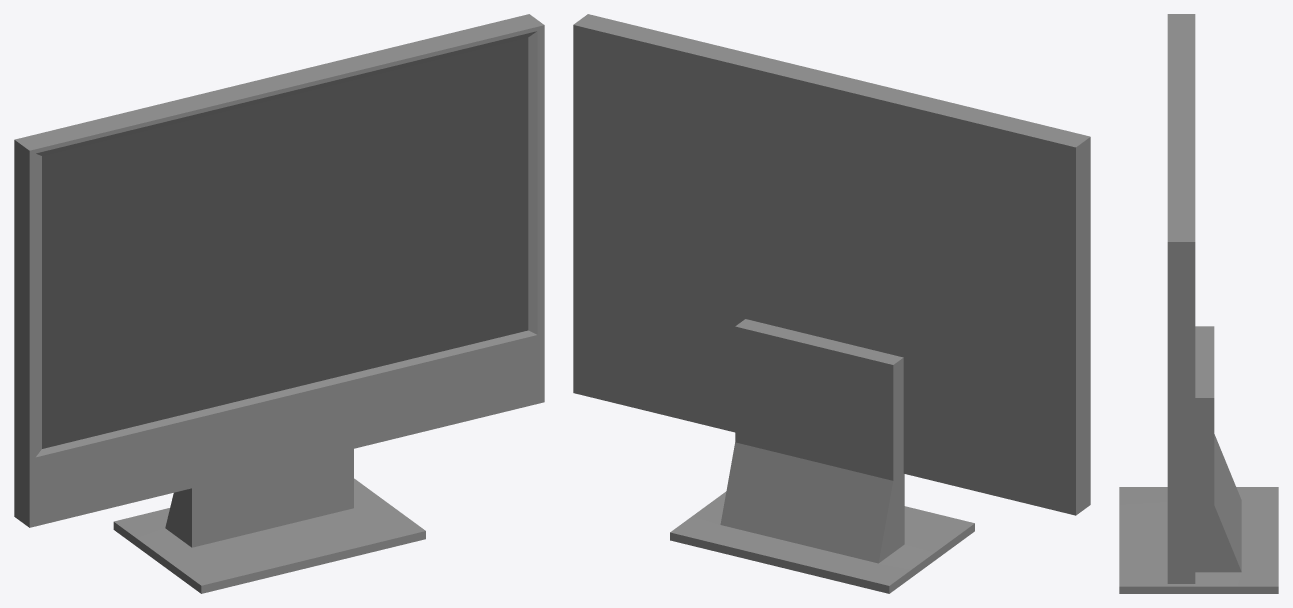
Rendered from Monitor_3.fbx.
3 views of the same model, side by side, from view 1: azimuth 30°, elevation 25°; view 2: azimuth 150°, elevation 25°; view 3: azimuth 270°, elevation 25° (orthographic). The views are drawn at different scales.
Parts seen in each view (by area): view 1: Monitor_3; view 2: Monitor_3; view 3: Monitor_3.
Part boxes in pixels (<box>): Monitor_3: <box>14,14,544,593</box>; Monitor_3: <box>573,14,1090,593</box>; Monitor_3: <box>1119,14,1278,593</box>.
Bounding box in the file's own units: 74.57 × 22.01 × 63.58.
